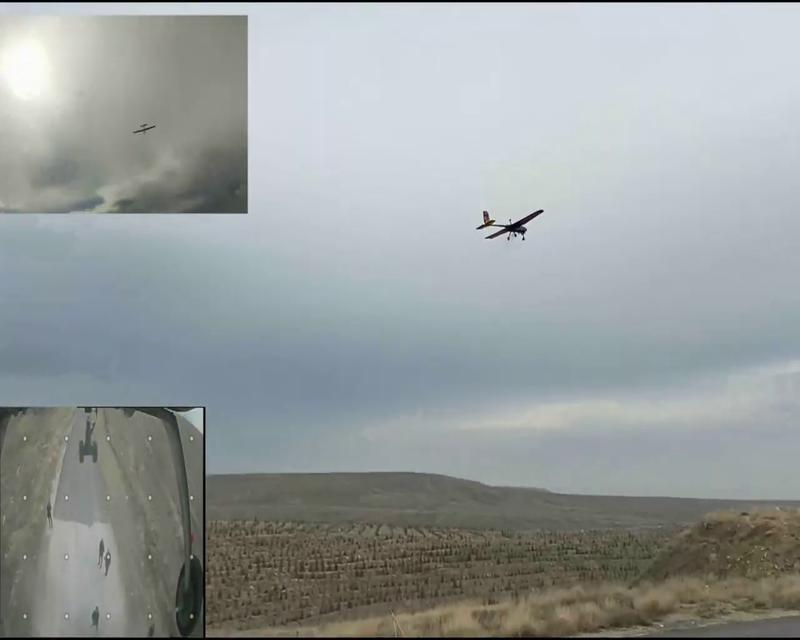UAV: (475, 207, 544, 241), (134, 122, 157, 136)
